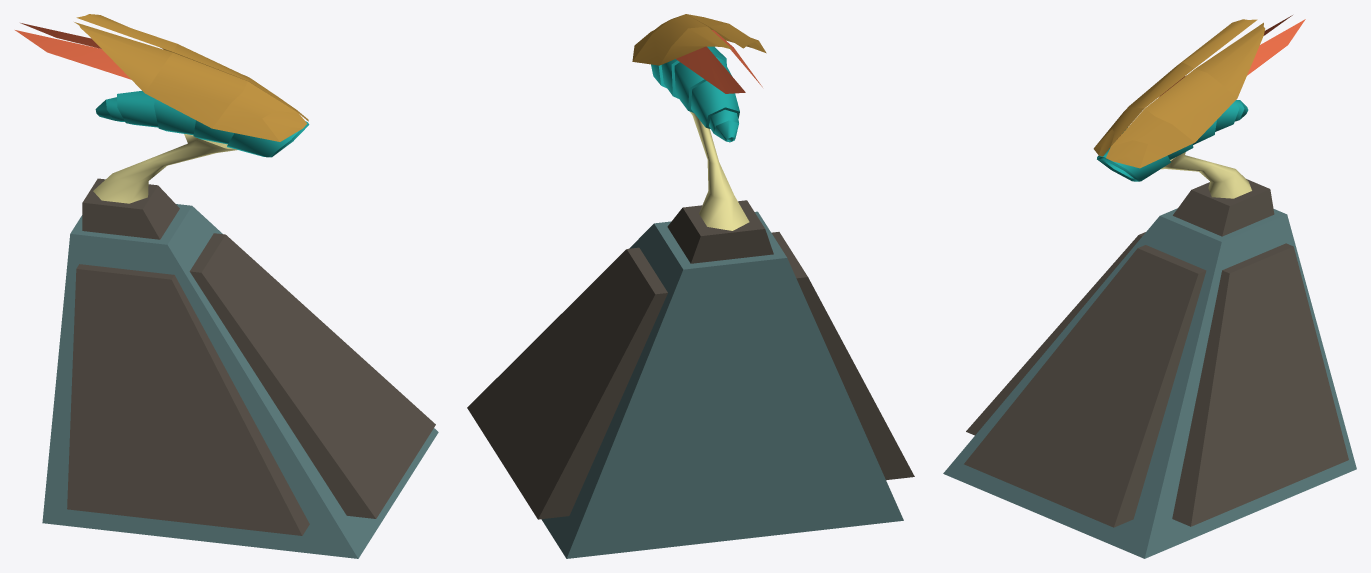
The model's file is voice1.dae.
3 views of the same model, side by side, from view 1: azimuth 30°, elevation 25°; view 2: azimuth 150°, elevation 25°; view 3: azimuth 270°, elevation 25° (orthographic). The views are drawn at different scales.
Visible parts, largest first — view 1: $dummy_node (×6); view 2: $dummy_node (×6); view 3: $dummy_node (×6).
Part boxes in pixels (x1,y1,x2,y2): $dummy_node (×6): (15,14,438,558); $dummy_node (×6): (467,14,914,558); $dummy_node (×6): (943,15,1356,558).
Size of the model in its own units: 2.93 by 3.15 by 2.93.
